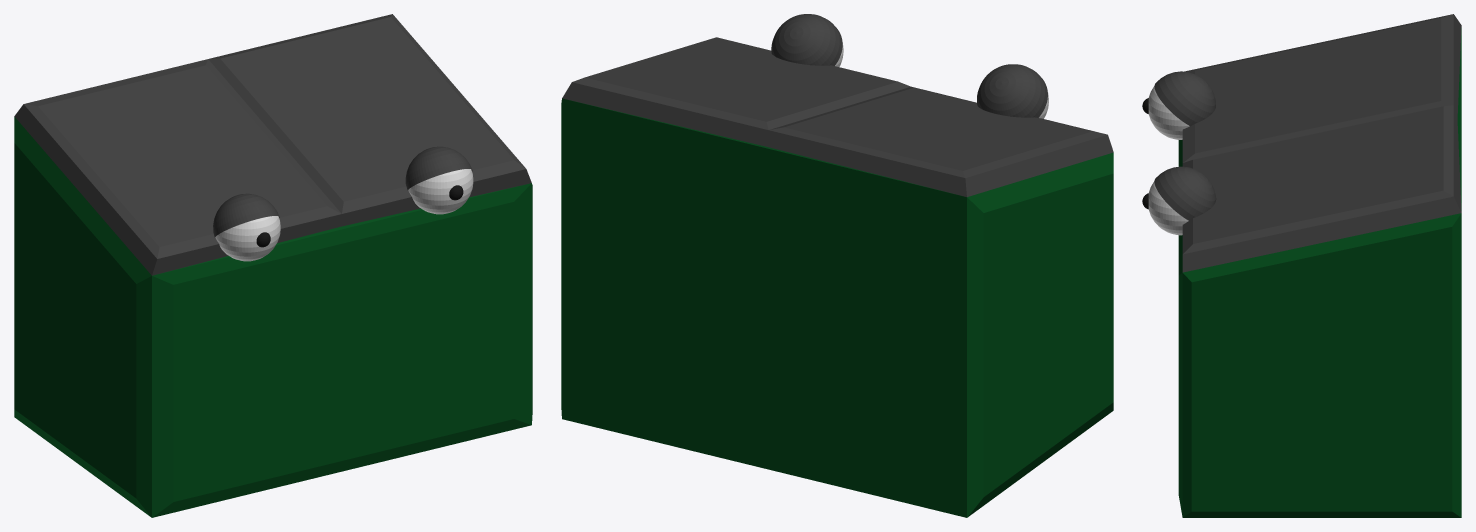
Rendered from Container.fbx.
The picture shows the model from 3 angles, left to right: view 1: azimuth 30°, elevation 25°; view 2: azimuth 150°, elevation 25°; view 3: azimuth 270°, elevation 25°; orthographic projection. The views are drawn at different scales.
Parts seen in each view (by area): view 1: body, lid_l, lid_r, eye_l, eye_r; view 2: body, lid_l, lid_r; view 3: body, lid_r, lid_l, eye_l, eye_r.
Part boxes in pixels (<box>): body: <box>14,117,532,517</box>; lid_l: <box>14,59,341,275</box>; lid_r: <box>208,14,531,226</box>; eye_l: <box>215,216,280,261</box>; eye_r: <box>408,169,473,214</box>; body: <box>561,98,1113,517</box>; lid_l: <box>766,64,1113,196</box>; lid_r: <box>562,14,910,146</box>; body: <box>1178,28,1461,517</box>; lid_r: <box>1154,105,1461,272</box>; lid_l: <box>1154,14,1461,162</box>; eye_l: <box>1142,86,1189,139</box>; eye_r: <box>1142,181,1188,235</box>.
Size of the model in its own units: 1.58 by 1.22 by 1.1.
1 material, 1 textured.
